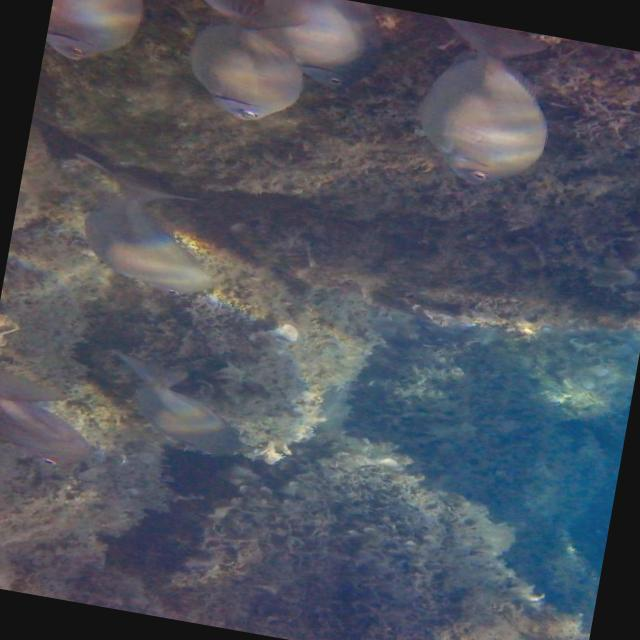Sokar Baligi: (402, 16, 583, 210), (150, 0, 345, 135)
